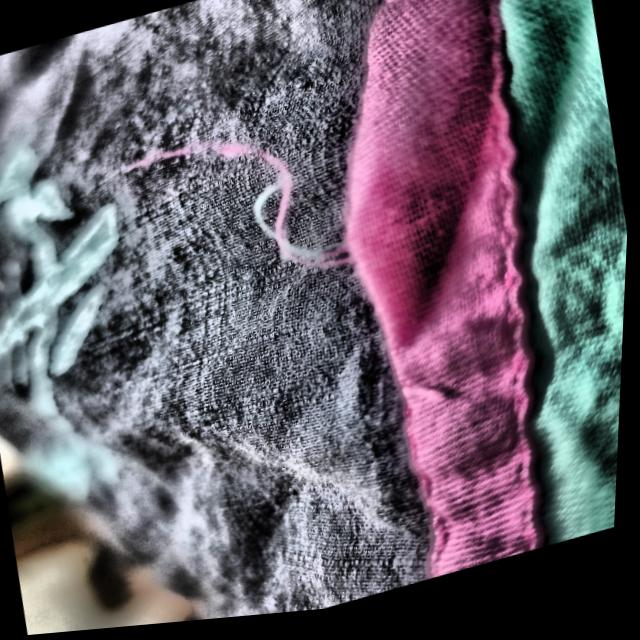Stitch: (71, 57, 478, 434)
